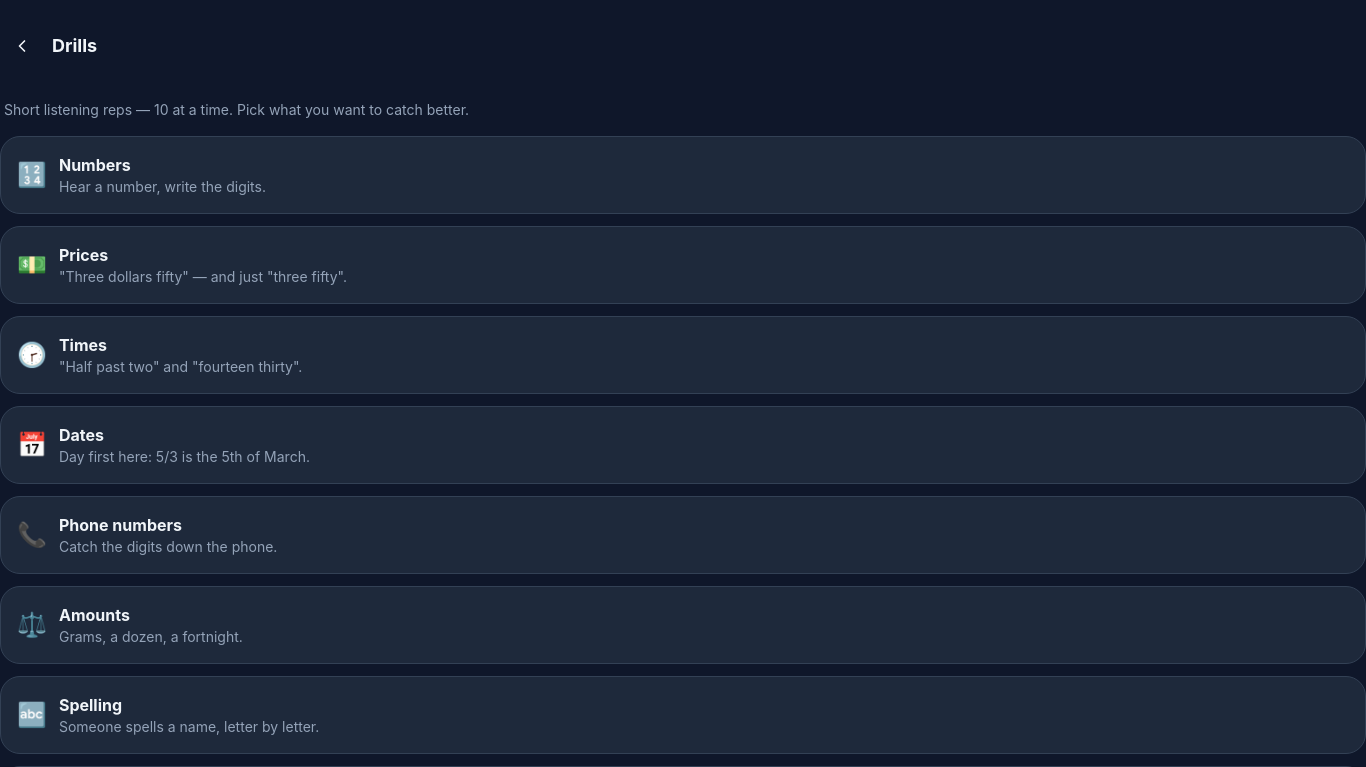
Drills runner › shows the answer on a miss and records the miss
Click the button with test id "drill-price". click: (84, 255)
box: top-left (0, 226), bottom-right (1365, 304)
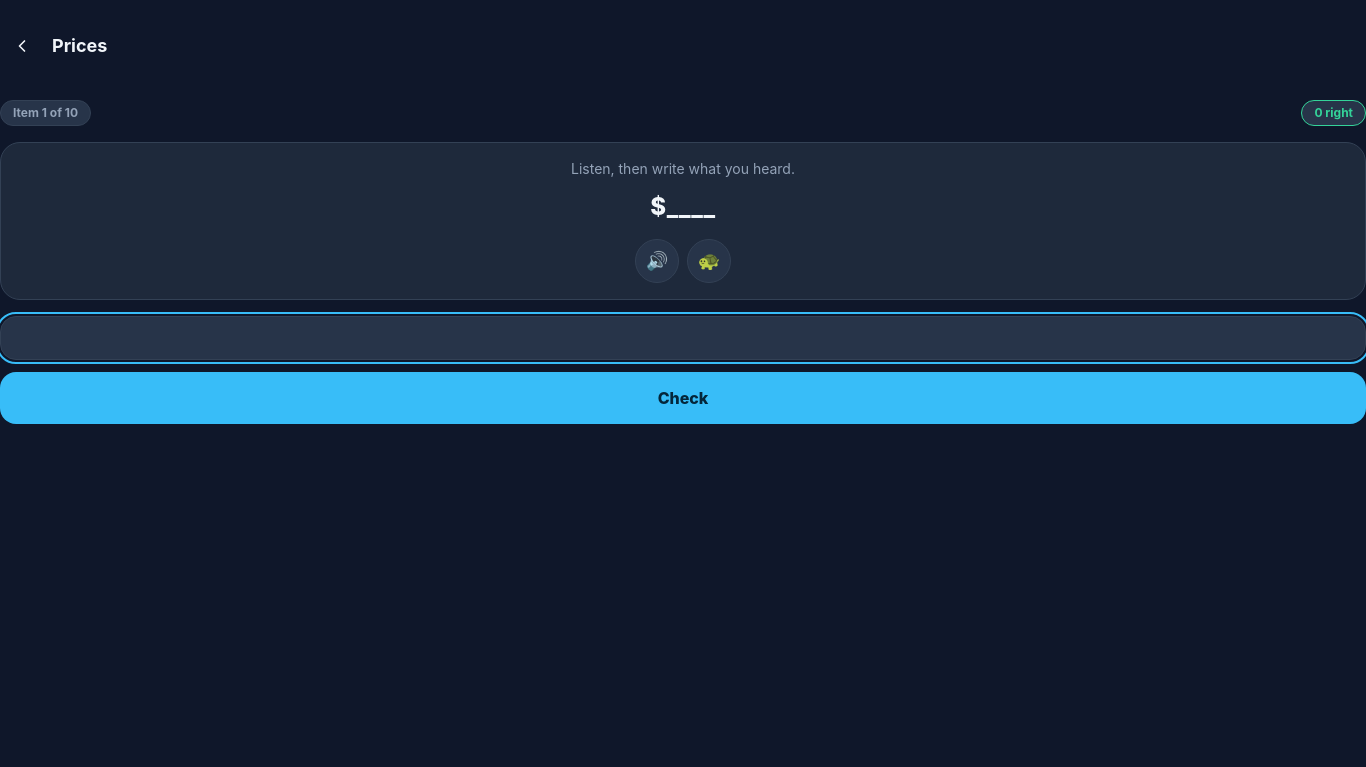
Type "9.99" into the field named "type what you heard". click: (683, 338)
box: top-left (0, 316), bottom-right (1365, 360)
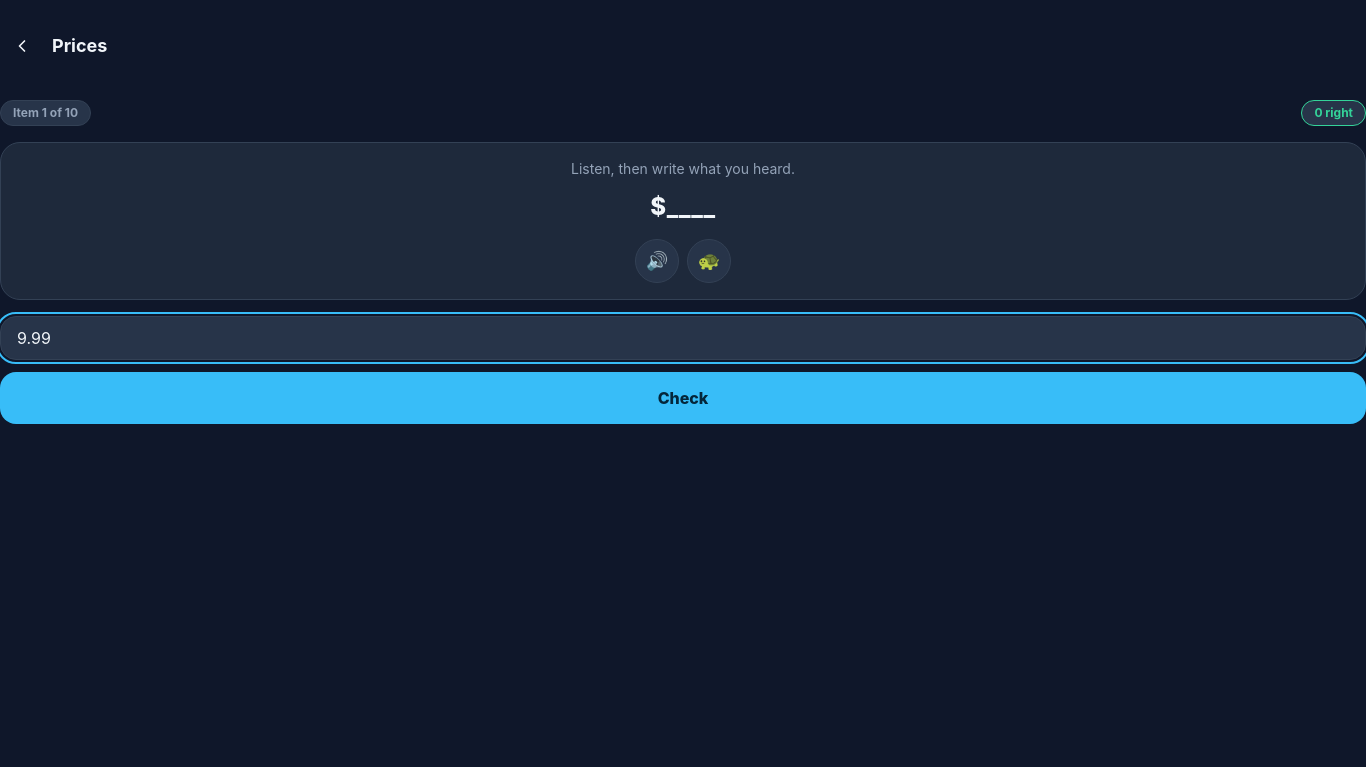
Click the button "Check". click: (683, 398)
box: top-left (0, 372), bottom-right (1365, 424)
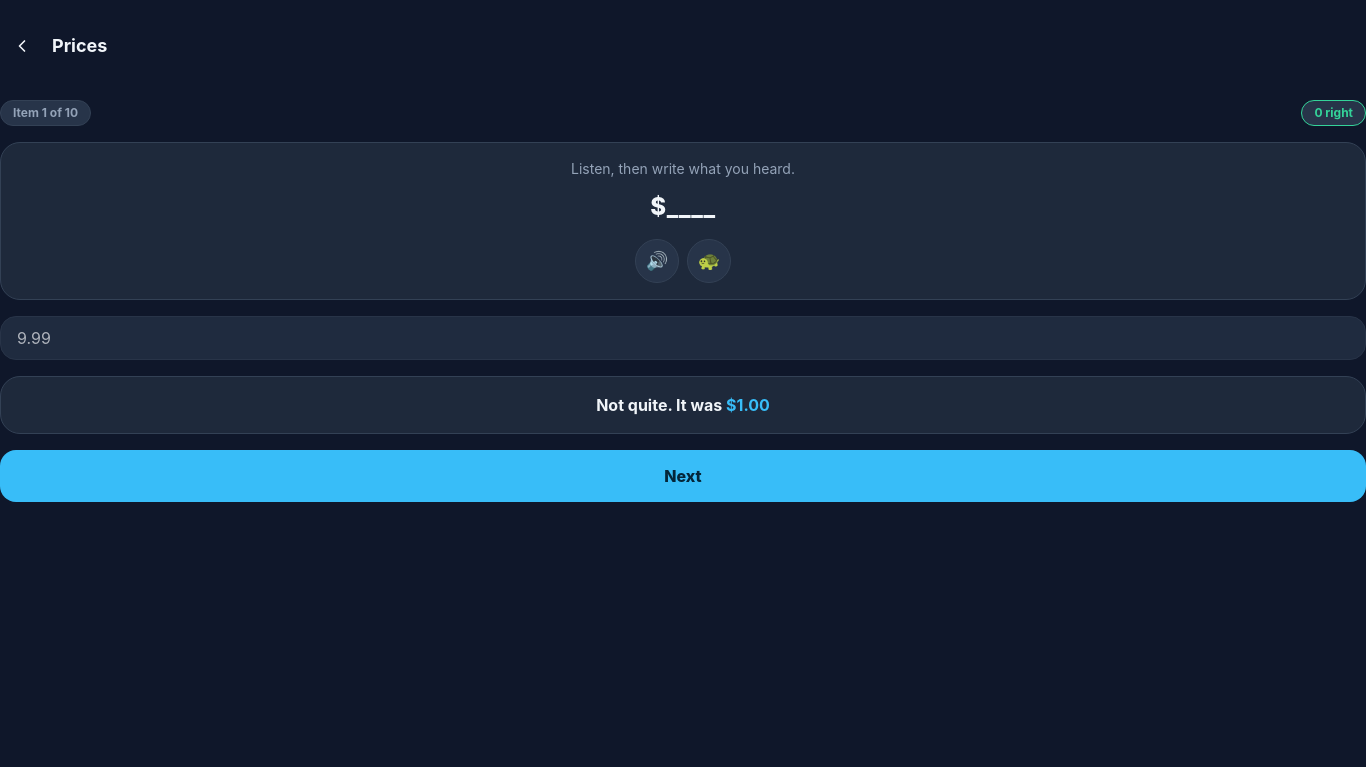
Expected: the text "Not quite. It was $1.00" is shown, top-left (596, 395), bottom-right (770, 415)
